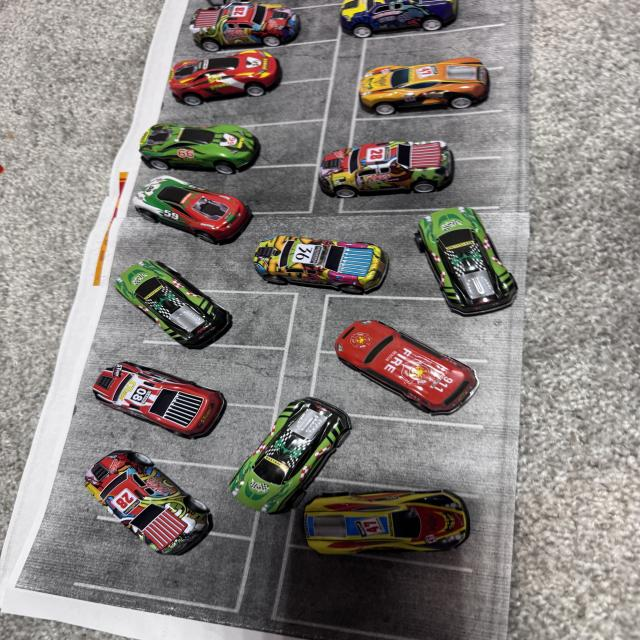car: (25, 352, 262, 452), (95, 459, 270, 594), (240, 391, 381, 531), (71, 247, 269, 345), (400, 203, 570, 317), (243, 212, 417, 320), (317, 322, 511, 416), (288, 482, 494, 558), (294, 148, 482, 216), (312, 59, 505, 124), (124, 106, 275, 189), (130, 187, 240, 244), (329, 6, 515, 38), (124, 66, 288, 102), (170, 6, 298, 42), (316, 0, 471, 27)
